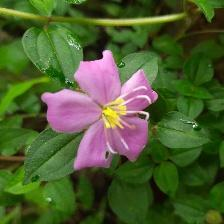malabar melastome: (41, 50, 159, 174)
